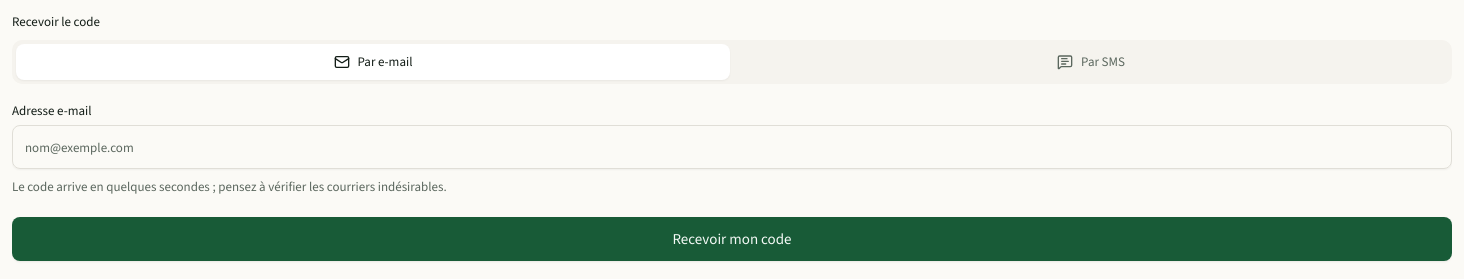
Test case: OtpLoginFlow › refuse une adresse invalide sans appeler l'API
Type "pas-une-adresse" into the field labelled "Adresse e-mail" at (732, 147), box x1=12 y1=125 x2=1452 y2=169
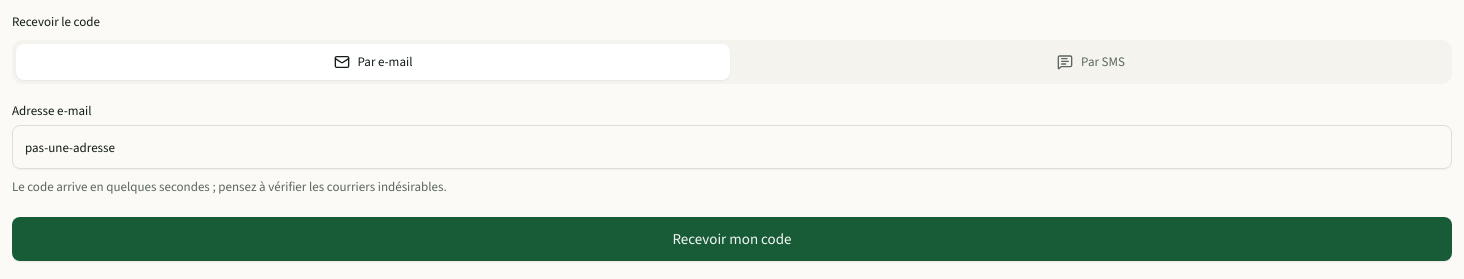
Click the button "Recevoir mon code" at (732, 239), box x1=12 y1=217 x2=1452 y2=261
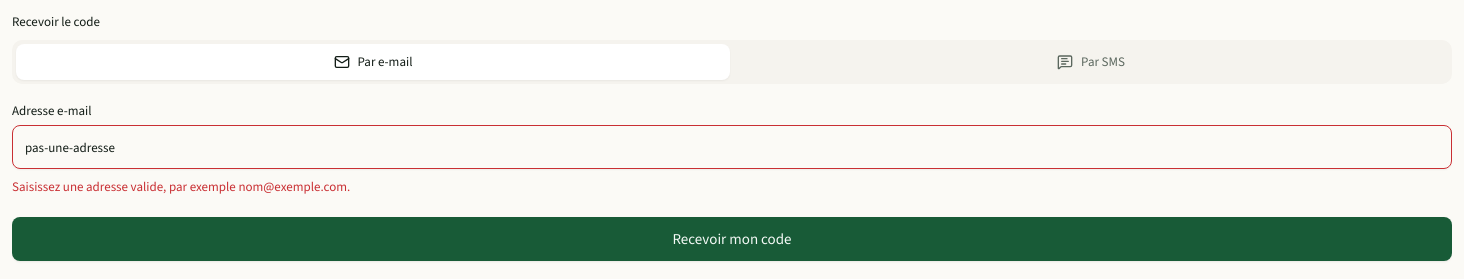
Check: the text "Saisissez une adresse valide, par exemple nom@exemple.com." is shown, box x1=12 y1=178 x2=350 y2=195
